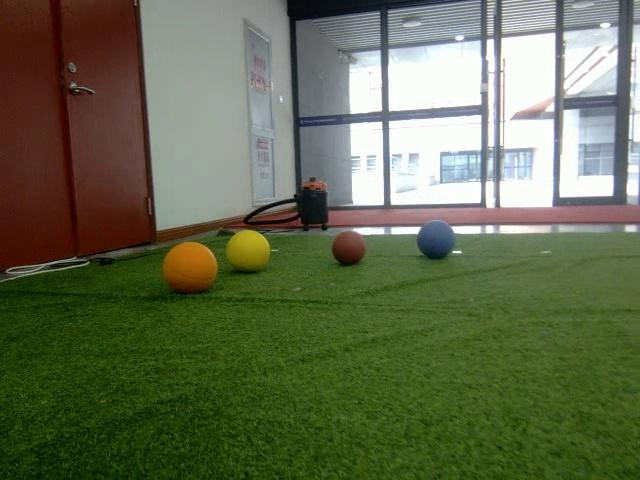blue_ball: (418, 220, 458, 260)
orange_ball: (161, 240, 218, 292)
red_ball: (331, 230, 367, 265)
yellow_ball: (226, 230, 272, 271)
